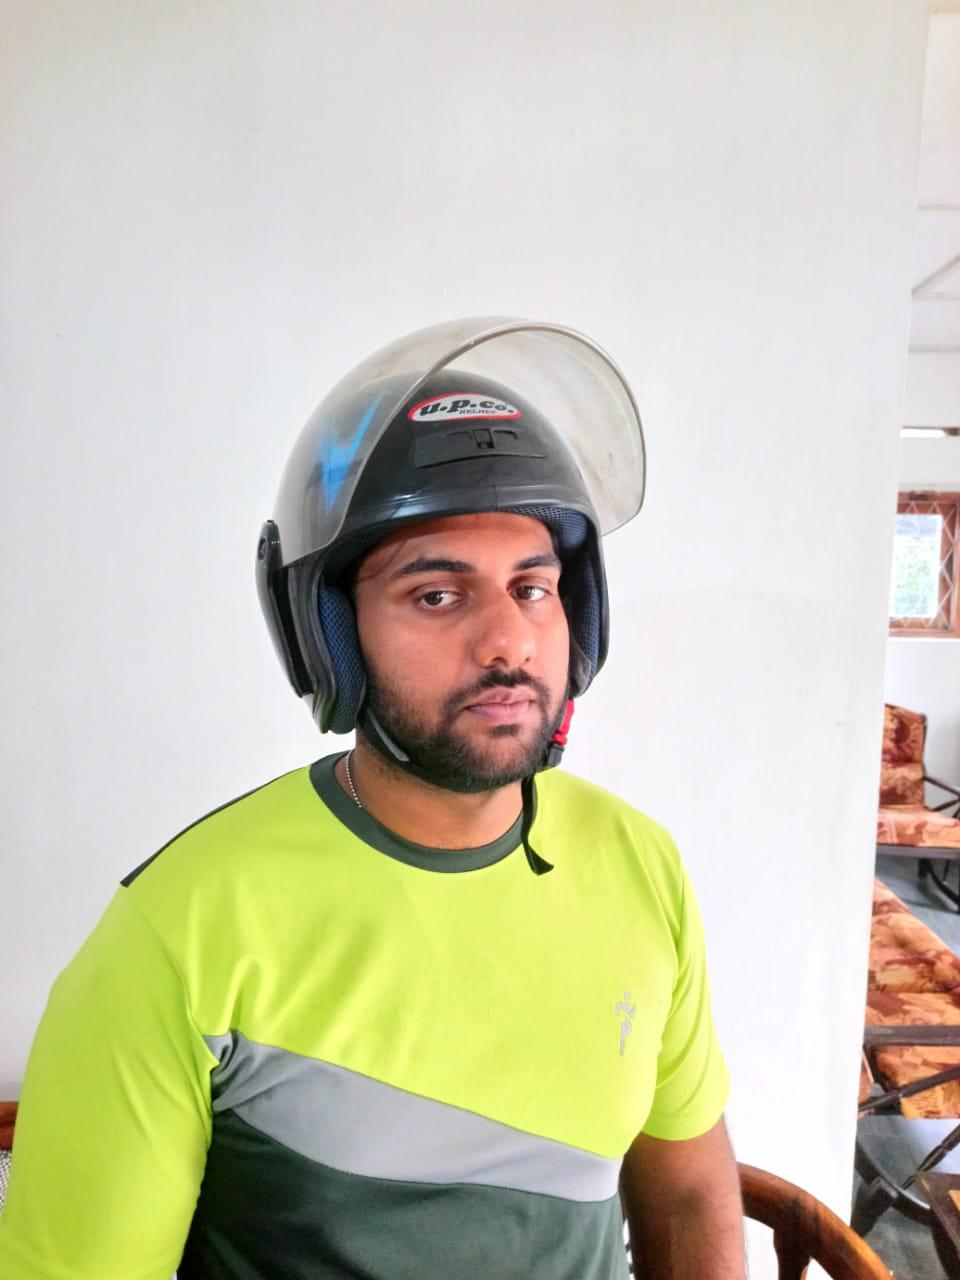helmet: (253, 315, 649, 735)
